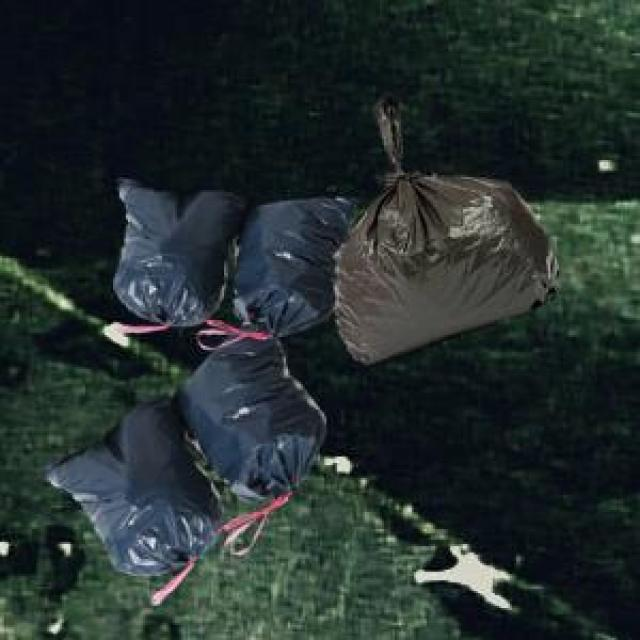miscellaneous trash: (36, 318, 320, 600), (333, 90, 555, 361), (109, 175, 354, 335)
